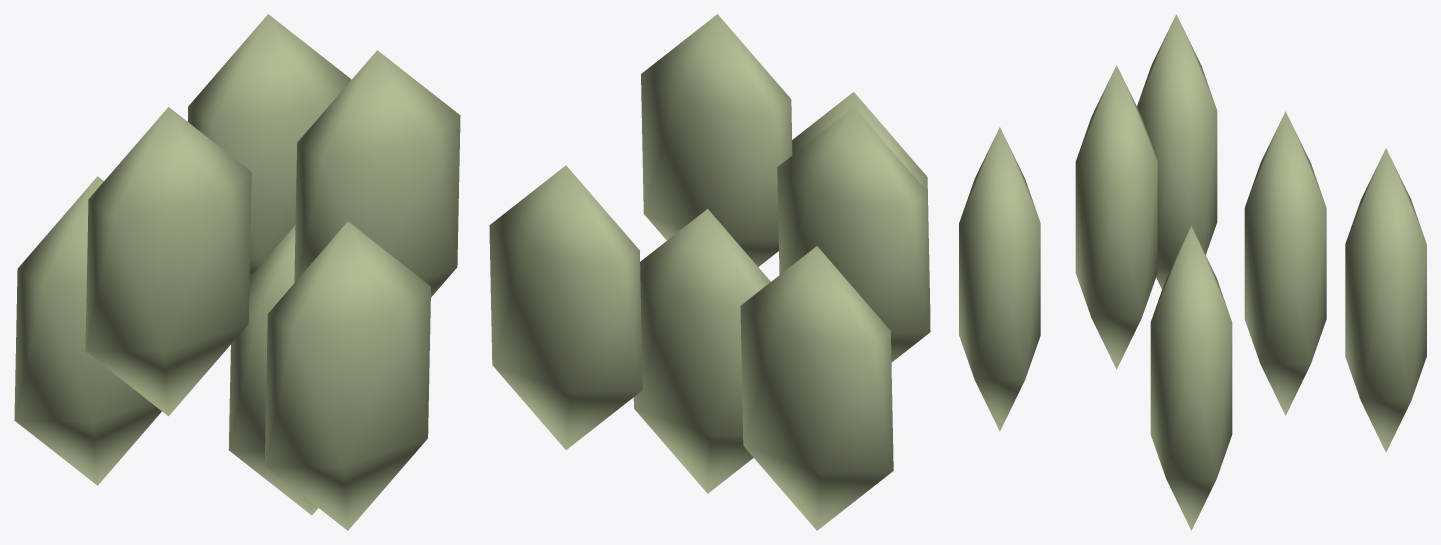
Rendered from arizona-prickly-pear_lod1.glb.
The picture shows the model from 3 angles, left to right: view 1: azimuth 30°, elevation 25°; view 2: azimuth 150°, elevation 25°; view 3: azimuth 270°, elevation 25°; orthographic projection. The views are drawn at different scales.
Parts seen in each view (by area): view 1: RF_CactusPad.004, RF_CactusPad.002, RF_CactusPad.005, RF_CactusPad.001, RF_CactusPad.003, RF_CactusPad; view 2: RF_CactusPad.003, RF_CactusPad.001, RF_CactusPad.005, RF_CactusPad, RF_CactusPad.004, RF_CactusPad.002; view 3: RF_CactusPad.005, RF_CactusPad.001, RF_CactusPad, RF_CactusPad.002, RF_CactusPad.003, RF_CactusPad.004.
Part boxes in pixels (<box>): RF_CactusPad.004: <box>85,107,251,416</box>; RF_CactusPad.002: <box>264,221,430,530</box>; RF_CactusPad.005: <box>294,50,460,297</box>; RF_CactusPad.001: <box>14,176,161,485</box>; RF_CactusPad.003: <box>187,14,351,277</box>; RF_CactusPad: <box>228,225,317,515</box>; RF_CactusPad.003: <box>489,165,642,449</box>; RF_CactusPad.001: <box>740,246,893,530</box>; RF_CactusPad.005: <box>641,14,792,266</box>; RF_CactusPad: <box>633,209,770,493</box>; RF_CactusPad.004: <box>777,107,930,362</box>; RF_CactusPad.002: <box>792,92,930,313</box>; RF_CactusPad.005: <box>1075,65,1157,369</box>; RF_CactusPad.001: <box>1244,111,1326,415</box>; RF_CactusPad: <box>1150,226,1232,530</box>; RF_CactusPad.002: <box>959,127,1040,431</box>; RF_CactusPad.003: <box>1345,148,1426,452</box>; RF_CactusPad.004: <box>1137,14,1217,289</box>.
Size of the model in its own units: 0.9177 by 1.1 by 0.9734.
